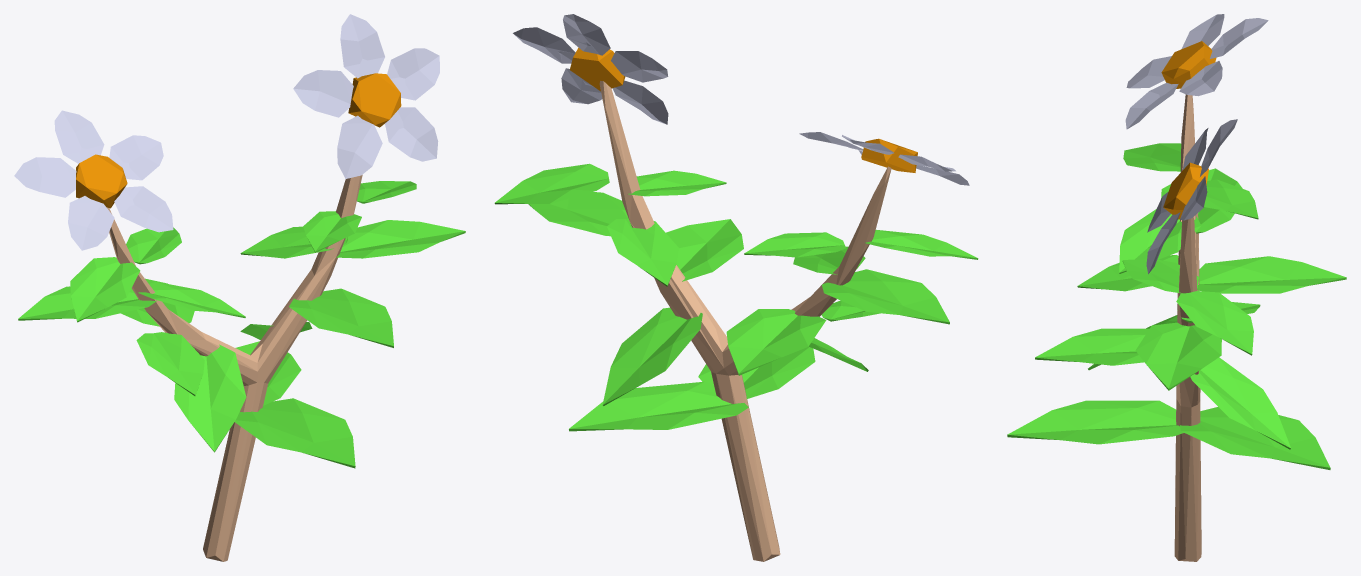
The model's file is Flower_2.fbx.
3 renders of one model, left to right at view 1: azimuth 30°, elevation 25°; view 2: azimuth 150°, elevation 25°; view 3: azimuth 270°, elevation 25°, orthographic. The views are drawn at different scales.
Parts seen in each view (by area): view 1: leaf_3, flower_leaf_2, main, button_2; view 2: leaf_3, main, flower_leaf_2, button_2; view 3: leaf_3, flower_leaf_2, main, button_2.
Boxes of the visible parts, x1,y1,x2,y2 form: leaf_3: (18,181,465,468); flower_leaf_2: (14,14,439,250); main: (106,175,362,561); button_2: (76,73,401,208); leaf_3: (494,163,978,431); main: (599,81,891,561); flower_leaf_2: (513,14,969,185); button_2: (570,47,917,172); leaf_3: (1007,143,1346,469); flower_leaf_2: (1125,14,1268,273); main: (1174,94,1201,561); button_2: (1161,41,1216,219).
Bounding box in the file's own units: 89.47 × 97.6 × 57.78.
